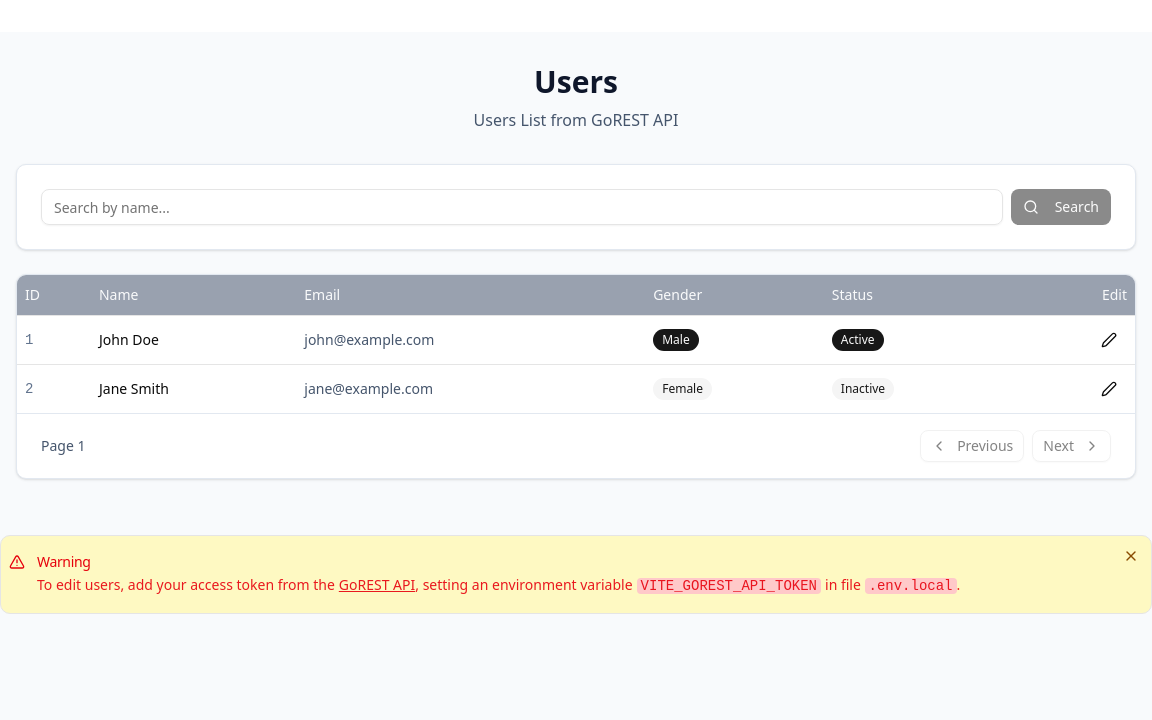
Test: Users › closes EditUser when dialog is closed
Expected: the table with test id "users-table" is shown, [17,275,1135,412]
Step 1. Click the button with test id "edit-user-button" → (1109, 340), box [1091,324,1127,356]
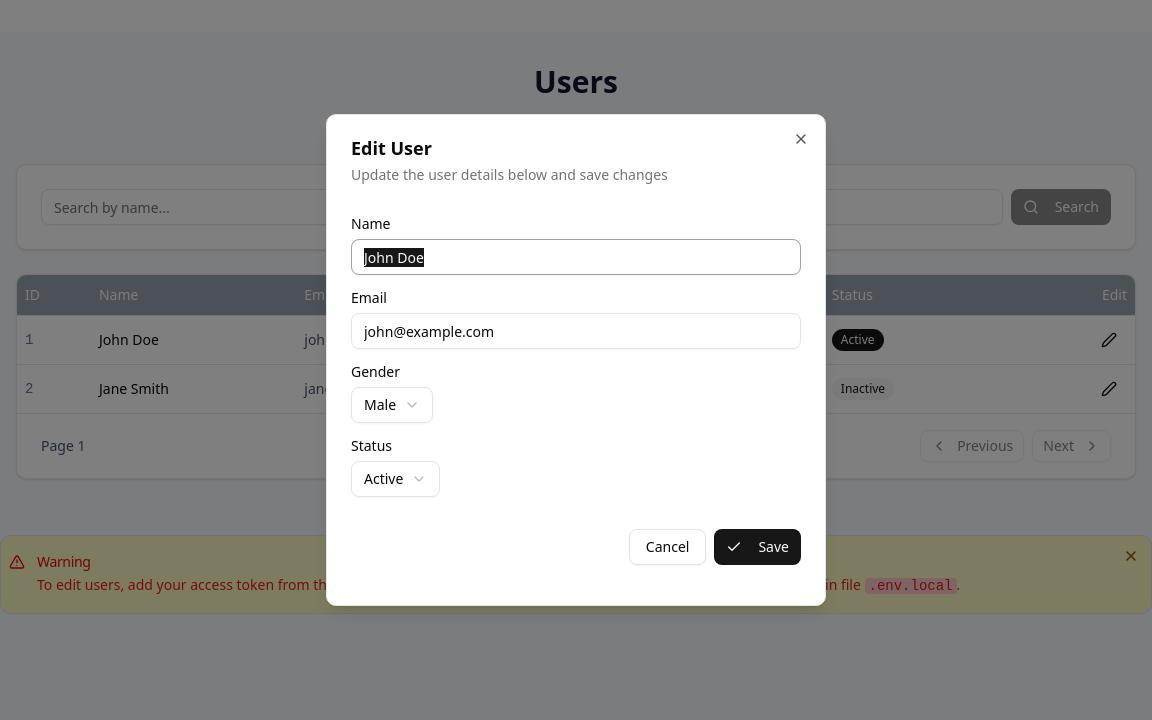
Expected: the text "Edit User" is shown, [351,136,432,160]
Step 2. Click the button named "close" → (801, 139), box [793,131,809,147]
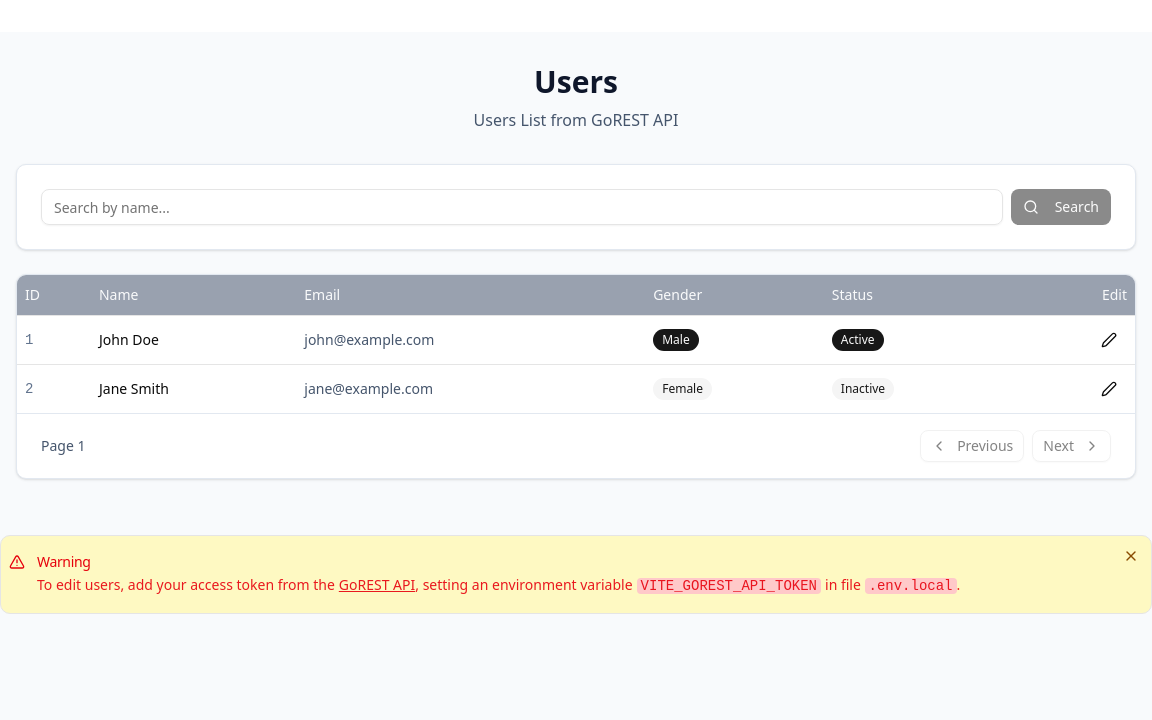
Expected: the text with test id "edit-user" is gone
